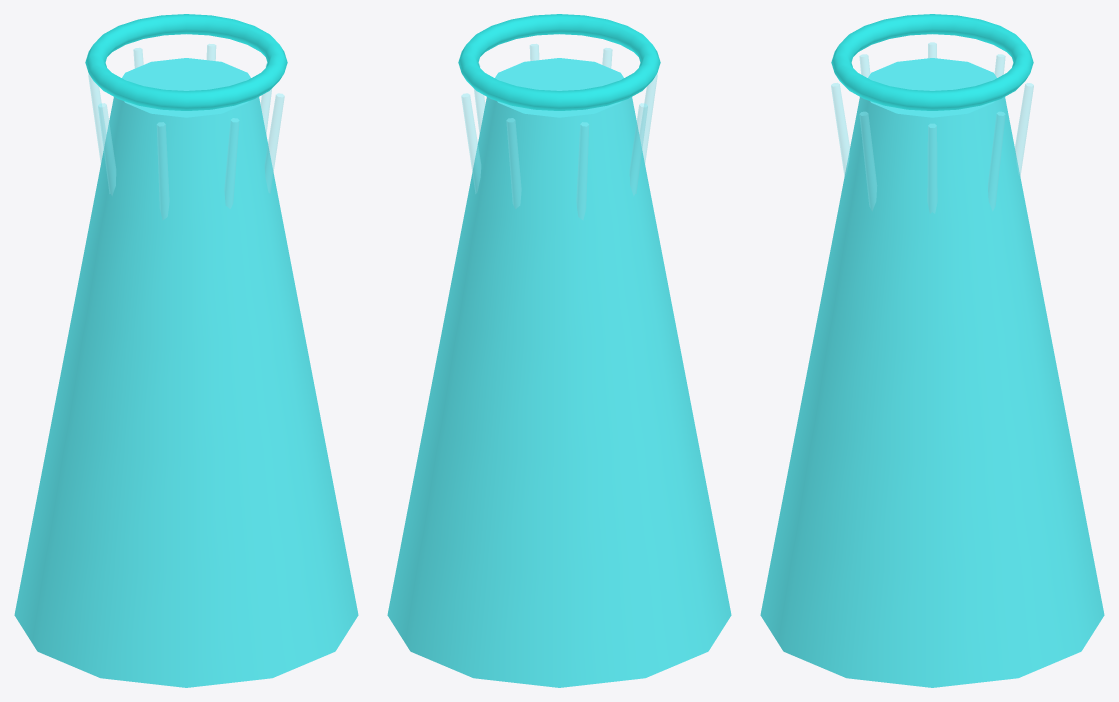
File: decon_shower_cells.glb
The picture shows the model from 3 angles, left to right: view 1: azimuth 30°, elevation 25°; view 2: azimuth 150°, elevation 25°; view 3: azimuth 270°, elevation 25°; orthographic projection.
Parts seen in each view (by area): view 1: SprayCone, HeadRing, Stream3, Stream1, Stream2, Stream4, Stream5; view 2: SprayCone, HeadRing, Stream5, Stream7, Stream6, Stream4, Stream3; view 3: SprayCone, HeadRing, Stream1, Stream7, Stream0, Stream6, Stream2.
Part boxes in pixels (x1,y1,x2,y2): SprayCone: (14, 58, 358, 687); HeadRing: (85, 14, 287, 110); Stream3: (156, 122, 169, 219); Stream1: (264, 93, 284, 193); Stream2: (224, 118, 239, 208); Stream4: (98, 103, 116, 195); Stream5: (88, 74, 106, 163); SprayCone: (387, 58, 731, 687); HeadRing: (458, 14, 660, 110); Stream5: (576, 122, 589, 219); Stream7: (461, 93, 481, 193); Stream6: (506, 118, 521, 208); Stream4: (629, 103, 647, 195); Stream3: (639, 74, 657, 163); SprayCone: (760, 58, 1104, 687); HeadRing: (831, 14, 1033, 110); Stream1: (859, 111, 877, 211); Stream7: (987, 111, 1005, 211); Stream0: (927, 123, 937, 213); Stream6: (1015, 83, 1033, 176); Stream2: (831, 83, 849, 176).
Bounding box in the file's own units: 1.36 × 2.46 × 1.36.
